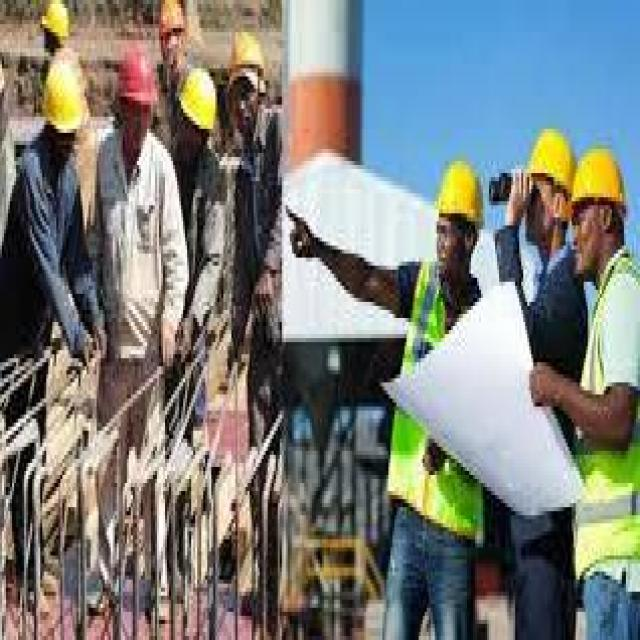Reflective-Jacket: (380, 250, 489, 540), (87, 129, 193, 374), (567, 249, 640, 571), (4, 137, 91, 354)
Safety-Helmet: (423, 145, 489, 249), (32, 48, 93, 153), (565, 137, 634, 225), (515, 117, 578, 209), (107, 32, 163, 129), (173, 56, 225, 153), (221, 20, 272, 109), (36, 0, 80, 56), (153, 0, 191, 44), (0, 36, 14, 125)
